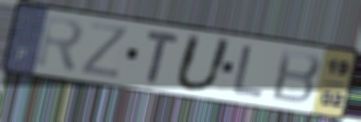B: (268, 47, 324, 107)
L: (230, 43, 267, 100)
R: (34, 13, 87, 76)
T: (144, 28, 182, 86)
U: (171, 31, 236, 94)
Z: (77, 21, 131, 81)
